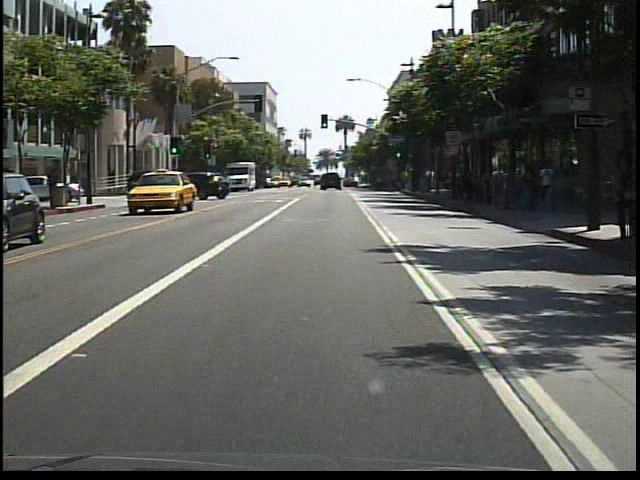person: (534, 159, 558, 220)
